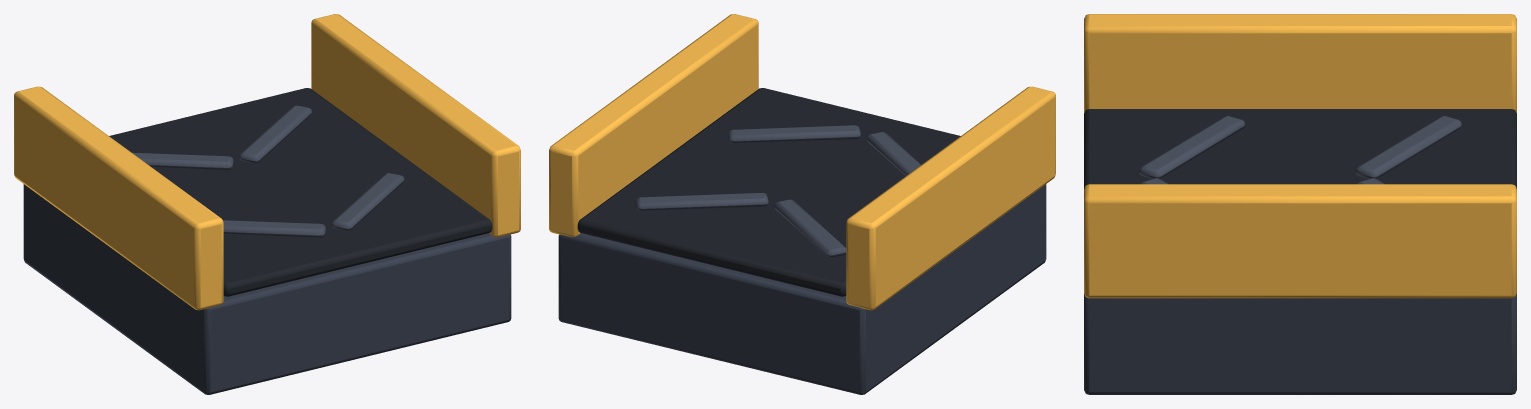
Rendered from band_gerade_1m.fbx.
3 views of the same model, side by side, from view 1: azimuth 30°, elevation 25°; view 2: azimuth 150°, elevation 25°; view 3: azimuth 270°, elevation 25° (orthographic). The views are drawn at different scales.
Visible parts, largest first — view 1: band_gerade_1m_Koerper; view 2: band_gerade_1m_Koerper; view 3: band_gerade_1m_Koerper.
Boxes of the visible parts, box(x1,y1,x2,y2) form: band_gerade_1m_Koerper: box(14, 14, 520, 394); band_gerade_1m_Koerper: box(549, 14, 1055, 394); band_gerade_1m_Koerper: box(1084, 14, 1516, 394).
Bounding box in the file's own units: 1.02 × 0.52 × 1.
